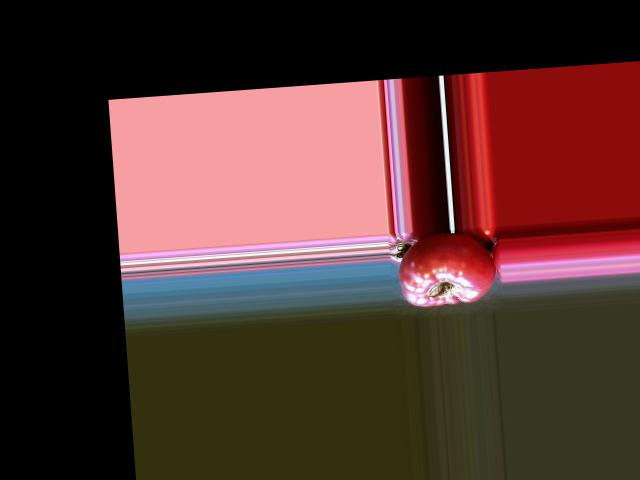tomato: (396, 229, 499, 308)
